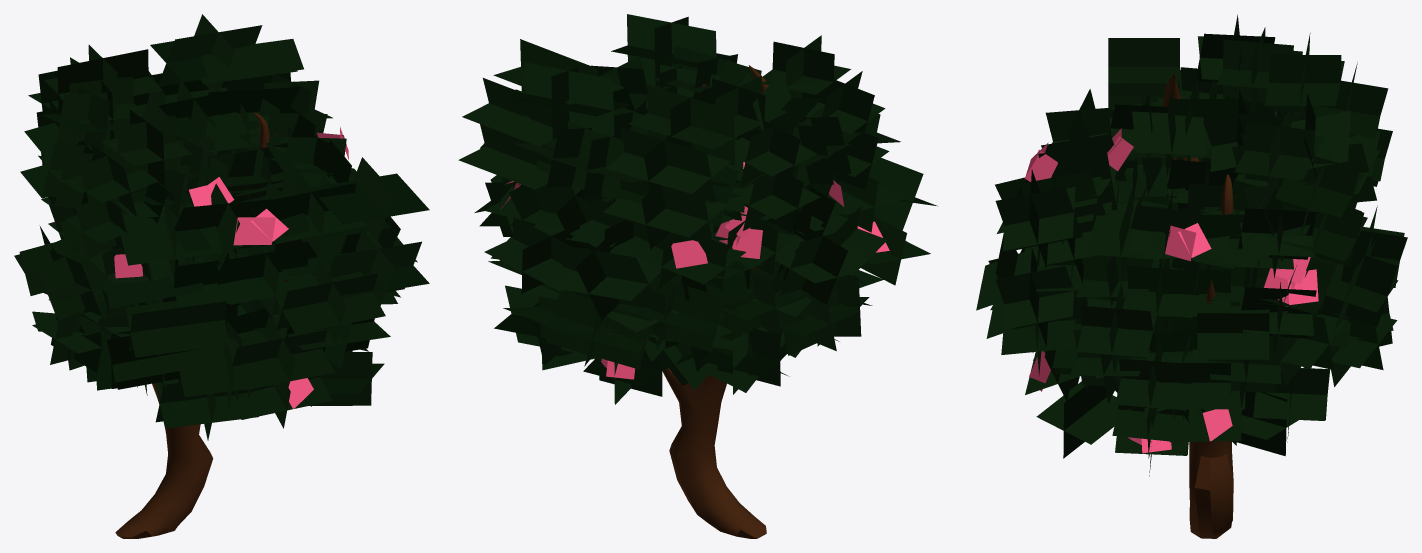
File: Frangipanier_1V9.fbx
3 views of the same model, side by side, from view 1: azimuth 30°, elevation 25°; view 2: azimuth 150°, elevation 25°; view 3: azimuth 270°, elevation 25° (orthographic). The views are drawn at different scales.
Visible parts, largest first — view 1: Object003; view 2: Object003; view 3: Object003.
Boxes of the visible parts, box(x1,y1,x2,y2) form: Object003: box(14, 14, 429, 538); Object003: box(458, 14, 937, 538); Object003: box(976, 14, 1407, 538).
Size of the model in its own units: 749 by 904 by 756.
